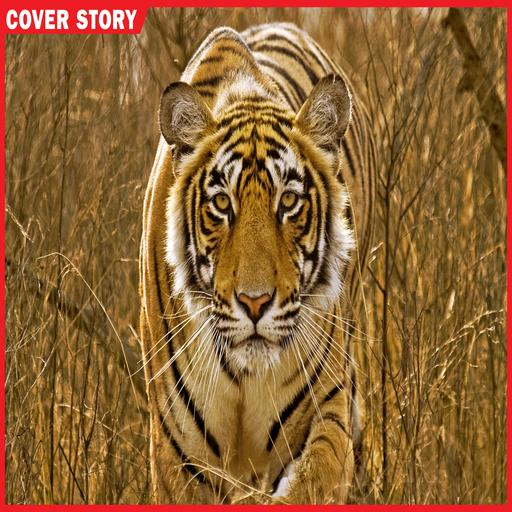Tiger: (142, 0, 406, 512)
